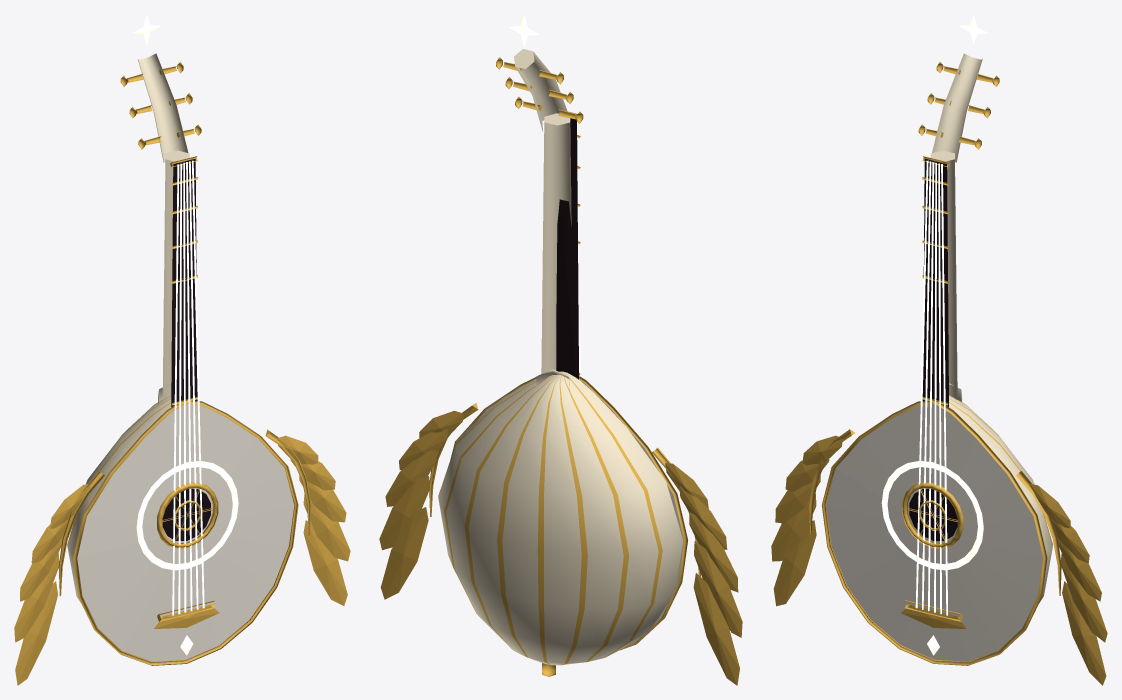
File: lute_7.glb
3 renders of one model, left to right at view 1: azimuth 30°, elevation 25°; view 2: azimuth 150°, elevation 25°; view 3: azimuth 330°, elevation 25°, orthographic. The views are drawn at different scales.
Visible parts, largest first — view 1: lute_7; view 2: lute_7; view 3: lute_7.
Part boxes in pixels (x1,y1,x2,y2): lute_7: (14,14,350,685); lute_7: (379,14,742,685); lute_7: (771,14,1107,685).
Size of the model in its own units: 0.4051 by 0.726 by 0.0973.
